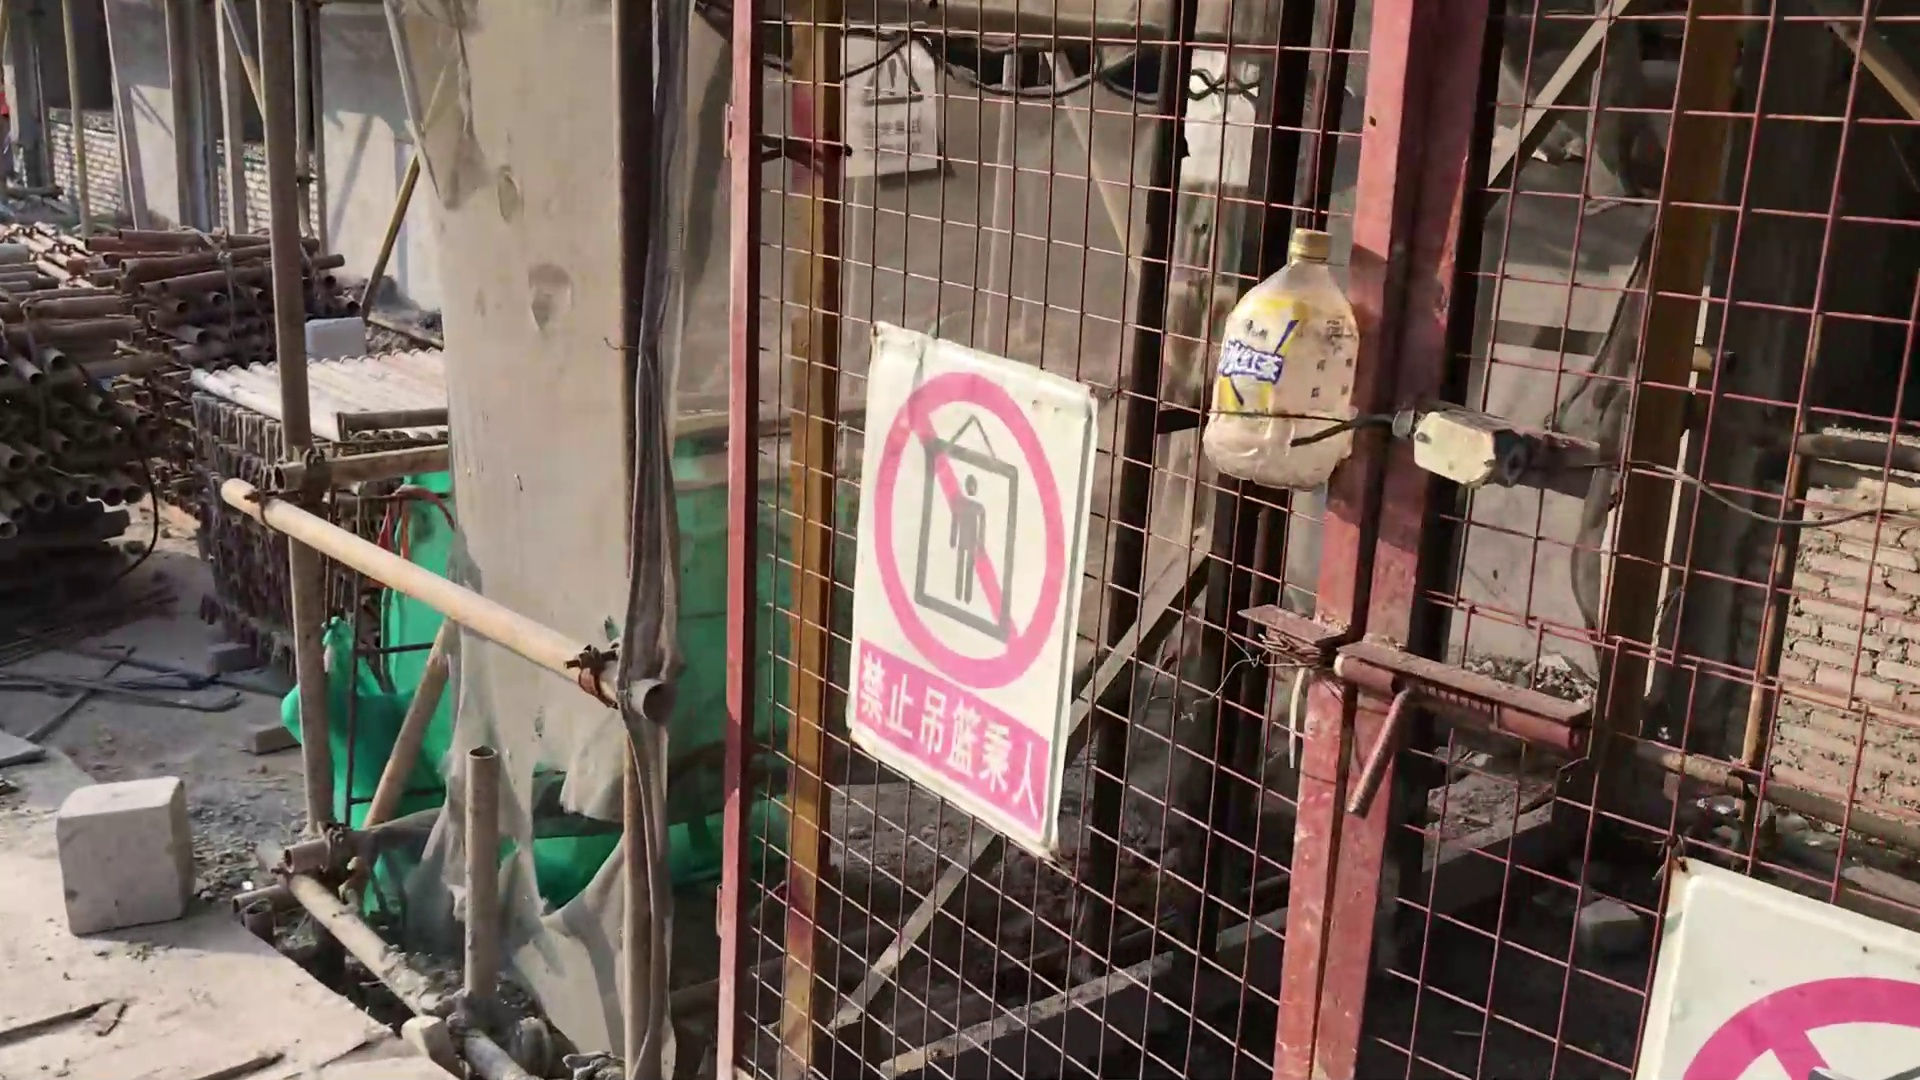scaffold: (1, 225, 443, 667)
slogan: (848, 322, 1089, 833), (840, 30, 942, 175)
